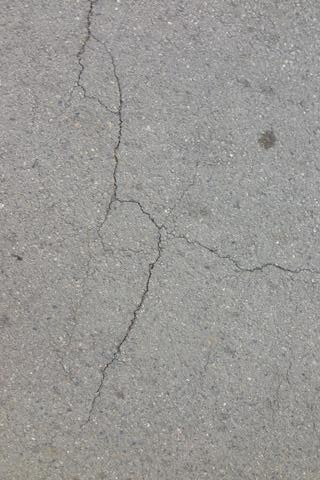A: (65, 4, 320, 412)
